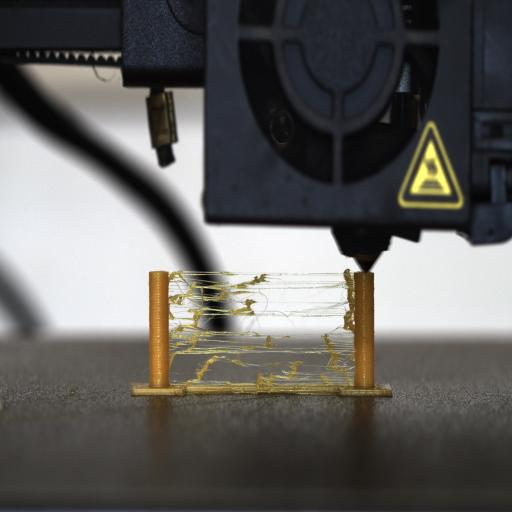stringing: (168, 270, 355, 386)
